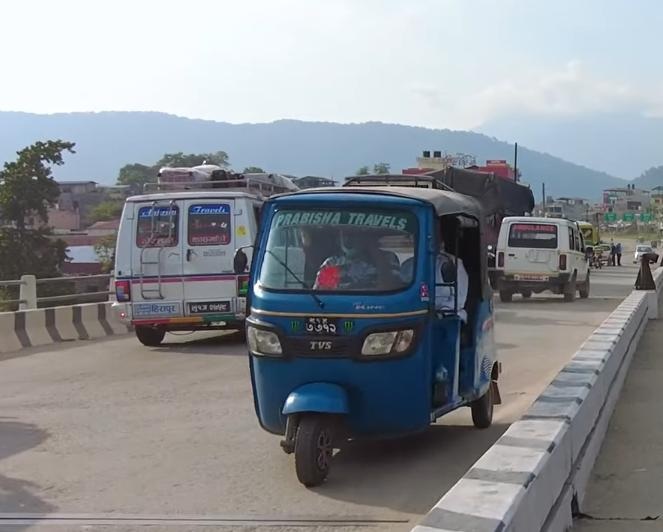ambulance: (494, 212, 595, 305)
auto_rickshaw: (231, 183, 514, 487)
micro_bus: (108, 161, 275, 346)
